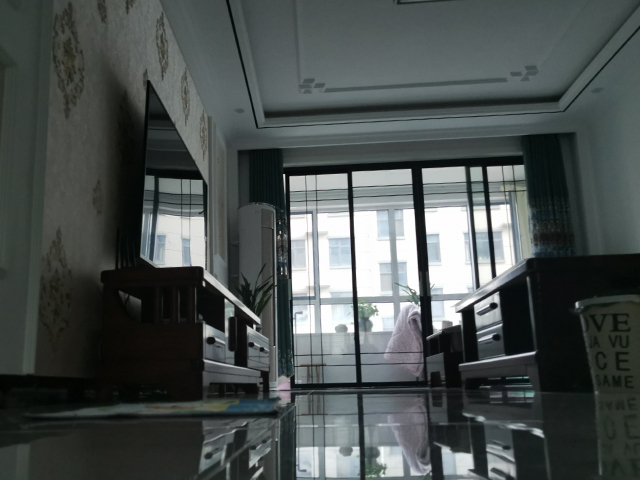cabinet: (93, 265, 273, 406)
carpet: (20, 395, 282, 422)
curtain: (247, 147, 297, 379)
sofa: (423, 325, 463, 389)
table: (451, 251, 640, 393)
trashcan: (570, 291, 640, 398)
